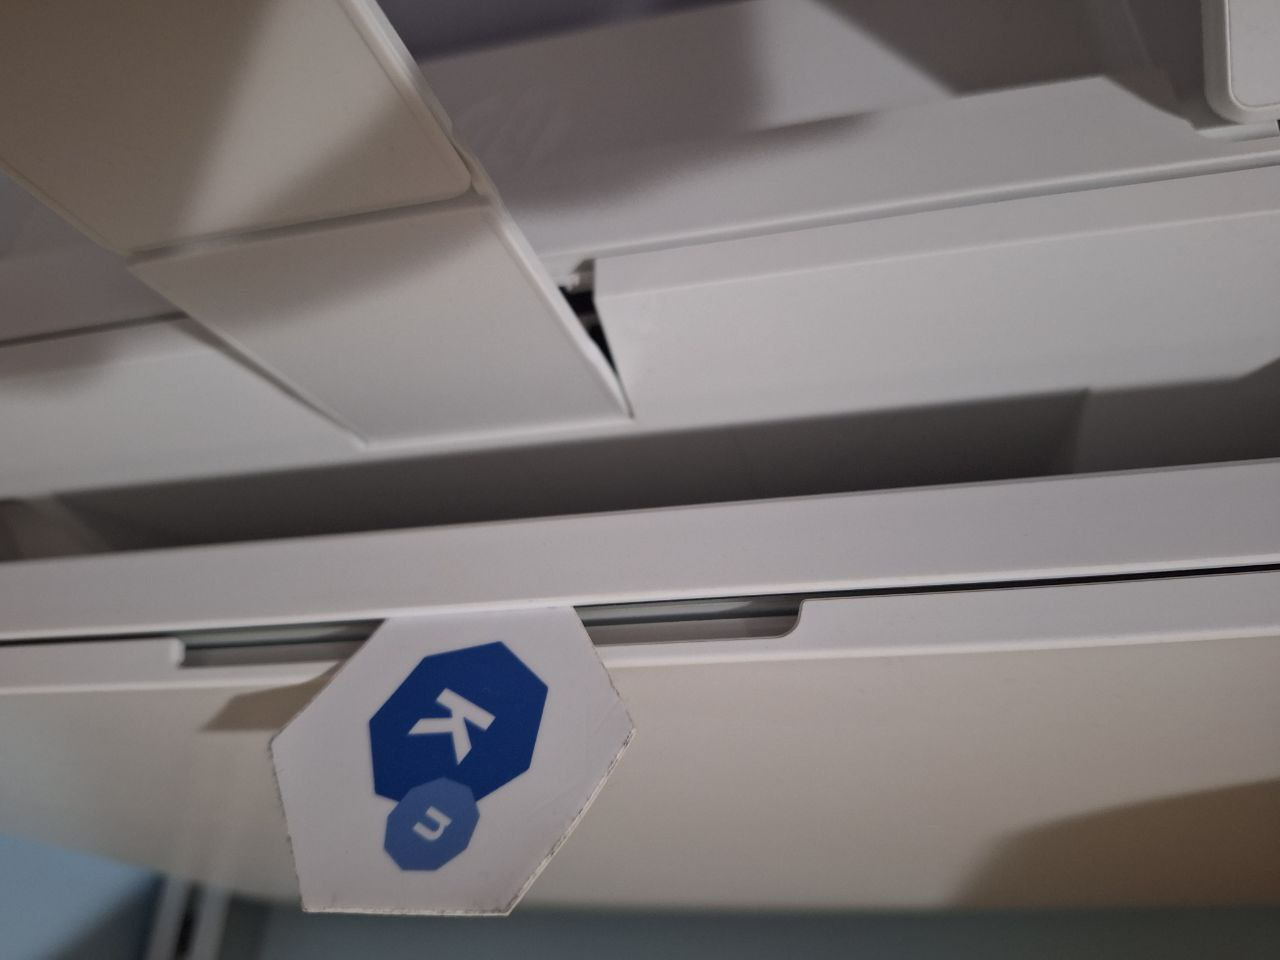knative: (366, 638, 547, 872)
